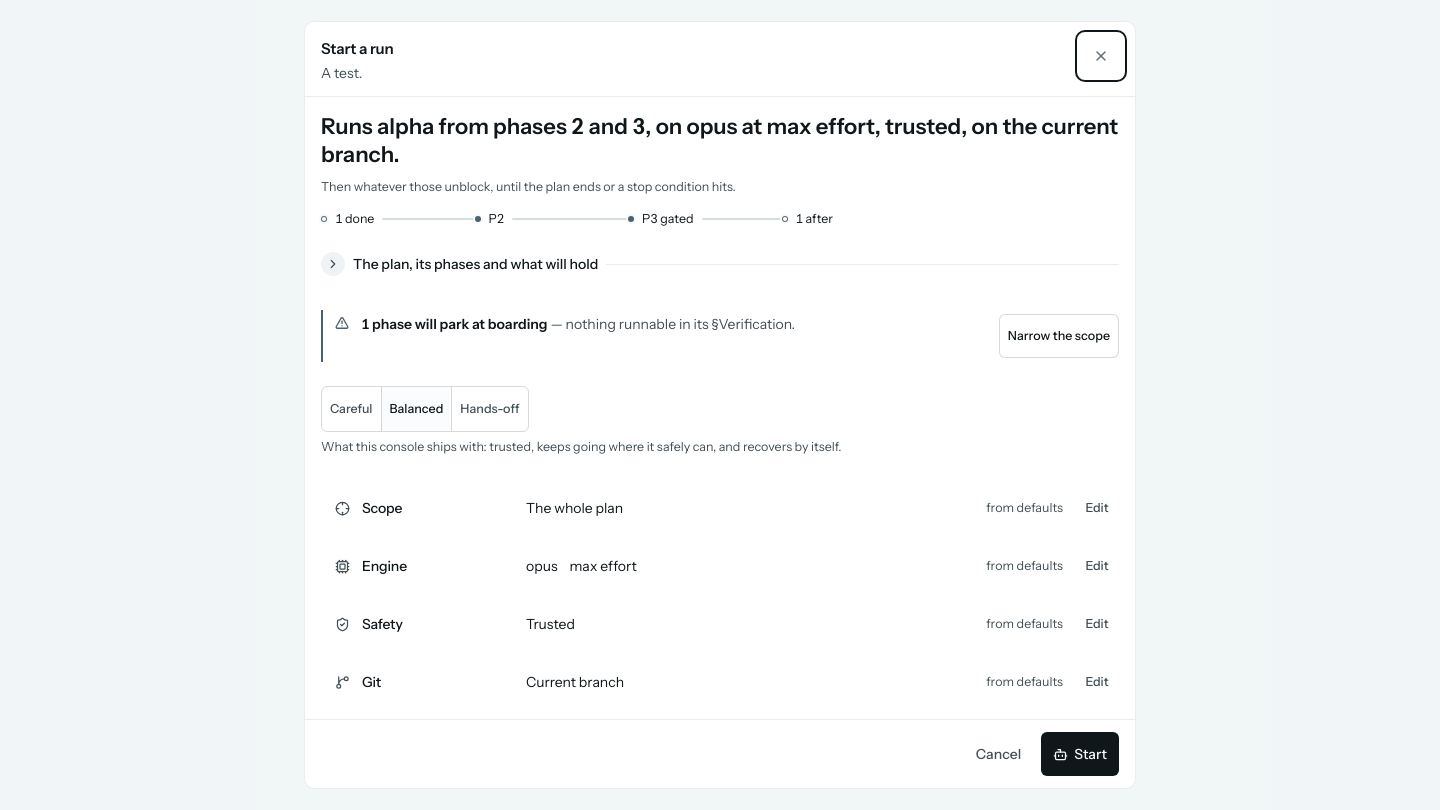
the quick view › keeps the plan, its phases, the sessions and what will hold one fold away
Check: the button "Start" is shown, box 1041,732 -> 1119,776
Click the button "The plan, its phases and what will hold". click: (476, 264)
box: 321,242 -> 1119,286
(page scrolled)
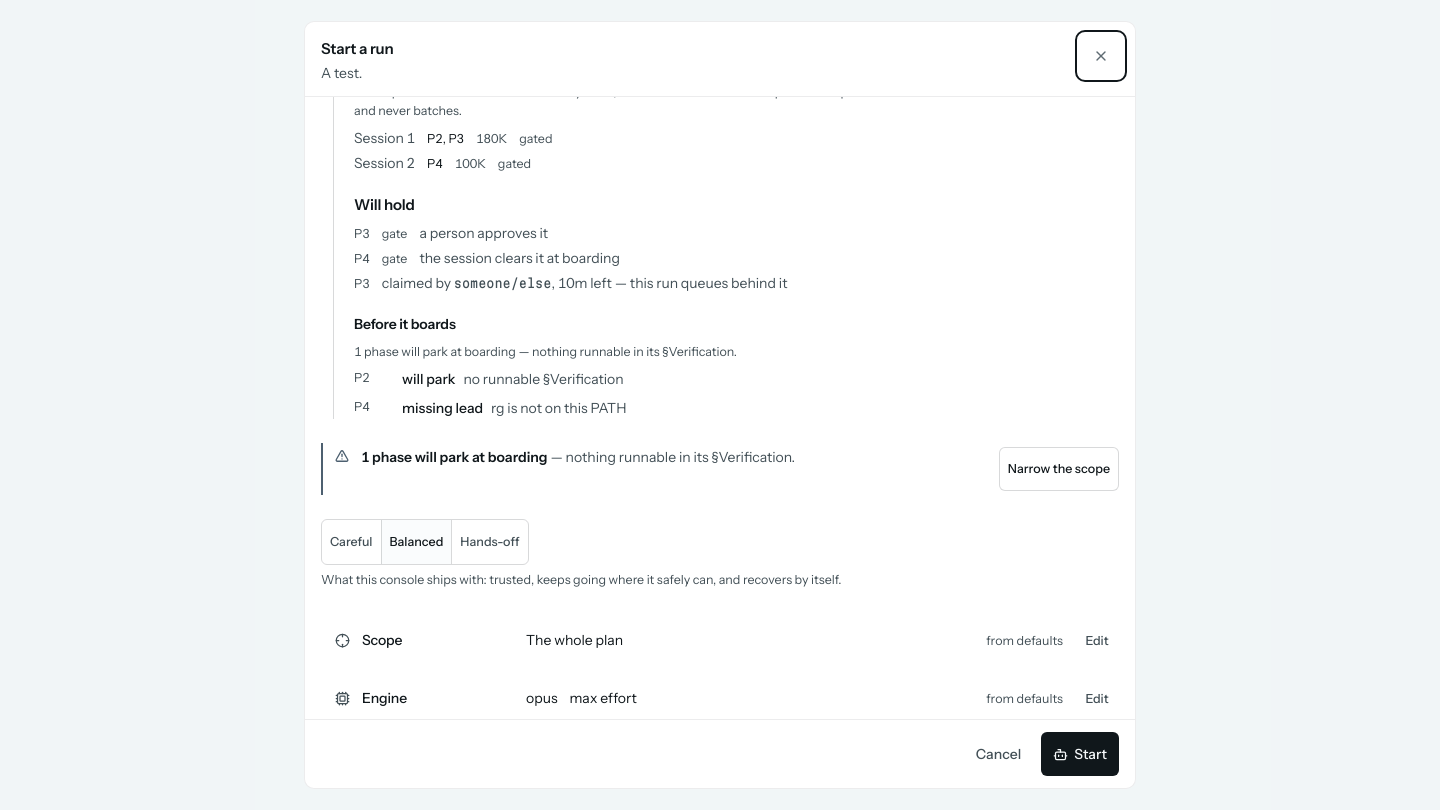
Check: the text "Session 1" is shown, box 354,128 -> 415,149
Check: the text "P2, P3" is shown, box 427,130 -> 464,148
Check: the text "claimed by" is shown, box 382,274 -> 454,292
